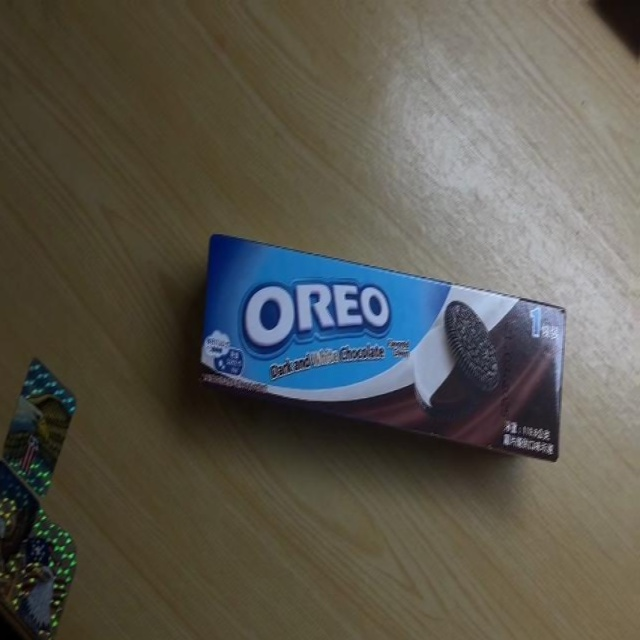Oreo: (202, 225, 570, 462)
